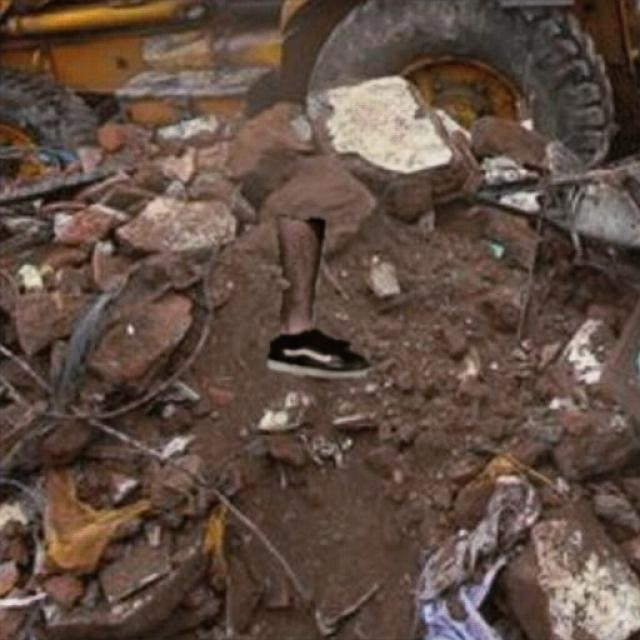Person in Rubble: (268, 215, 372, 376)
